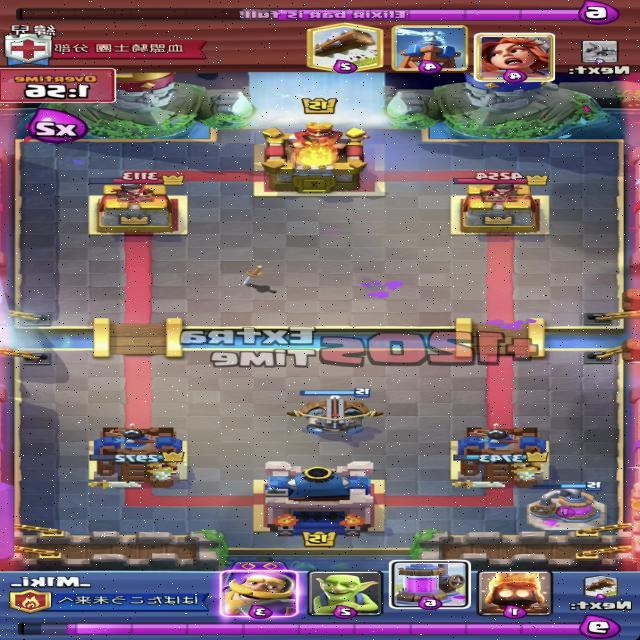Enemy-Fireball: (290, 138, 338, 168)
Player-ElixirPump: (524, 481, 608, 532)
Player-XBow: (285, 387, 382, 434)
